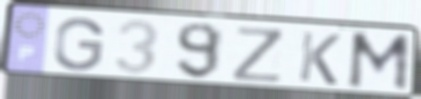3: (112, 18, 166, 78)
9: (174, 21, 227, 82)
G: (51, 16, 107, 74)
K: (296, 29, 343, 87)
M: (345, 31, 414, 95)
Z: (231, 25, 286, 85)
